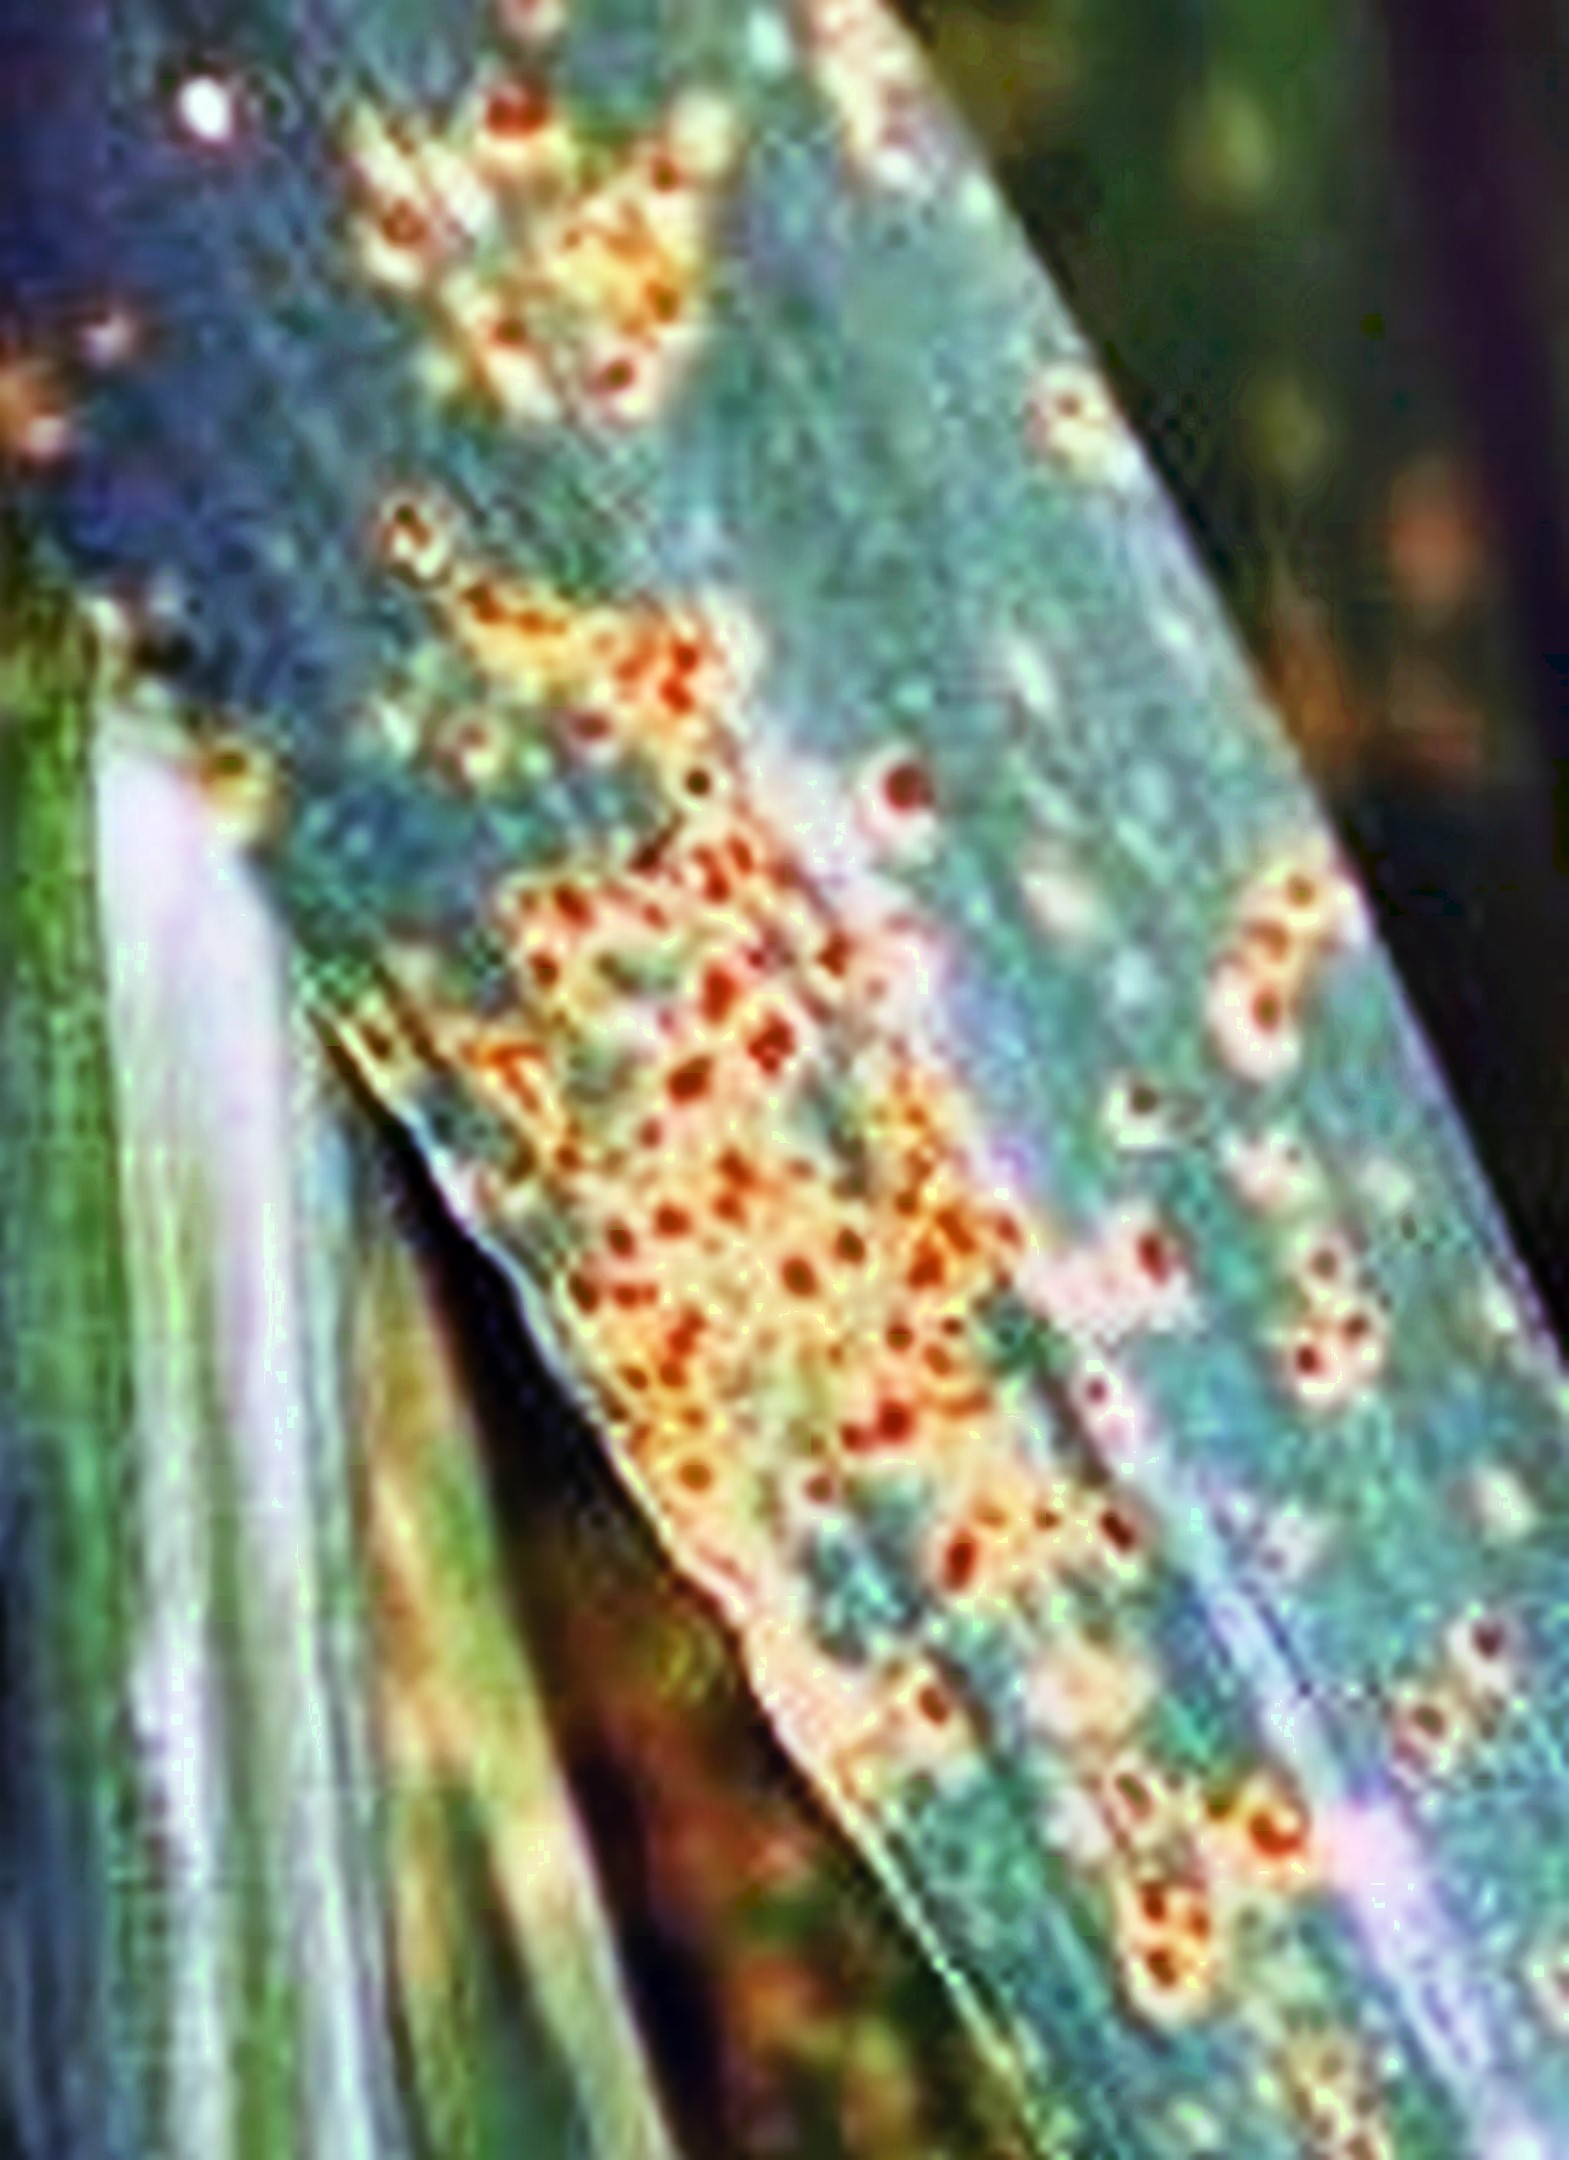Leaf Rust: (327, 424, 1532, 1841)
